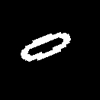chain: (21, 32, 70, 60)
